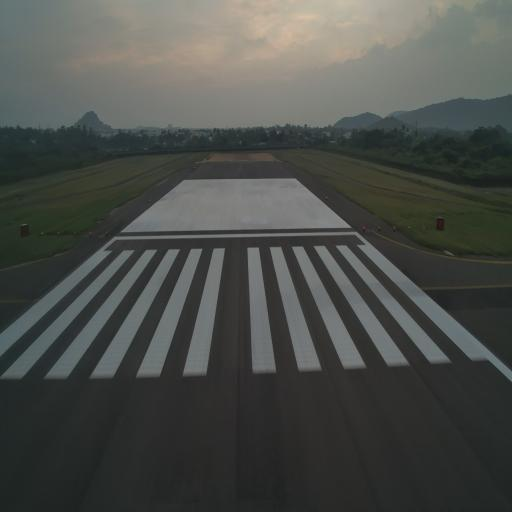off: (104, 230, 109, 236), (74, 230, 76, 236)
on: (361, 224, 366, 231), (392, 224, 396, 231), (422, 225, 427, 230), (378, 224, 381, 232), (407, 225, 411, 231), (57, 230, 60, 236), (41, 231, 44, 236), (90, 230, 92, 235)
